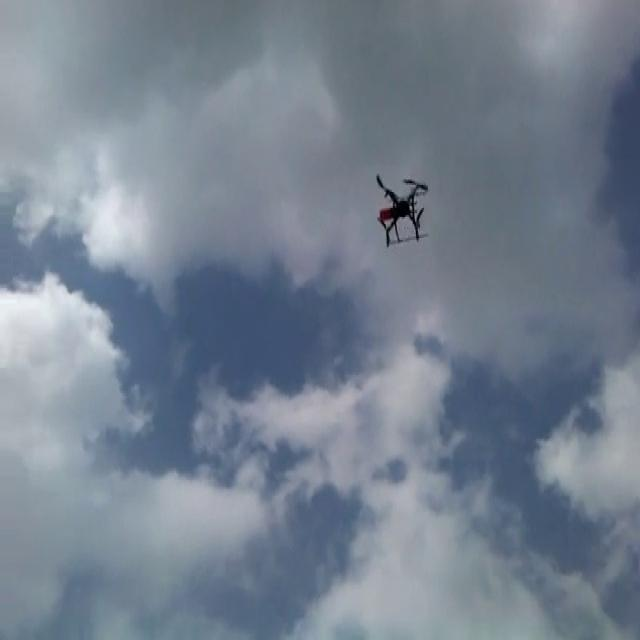drone: (374, 168, 430, 252)
